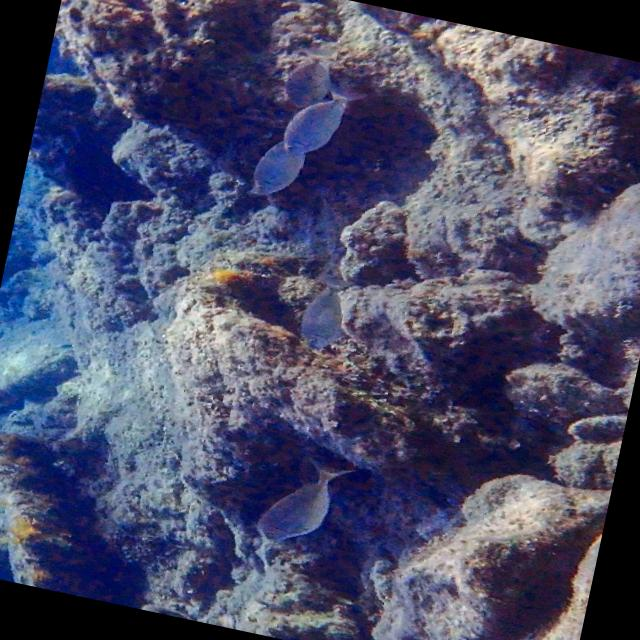Sokar Baligi: (231, 438, 371, 566), (274, 260, 360, 364)
